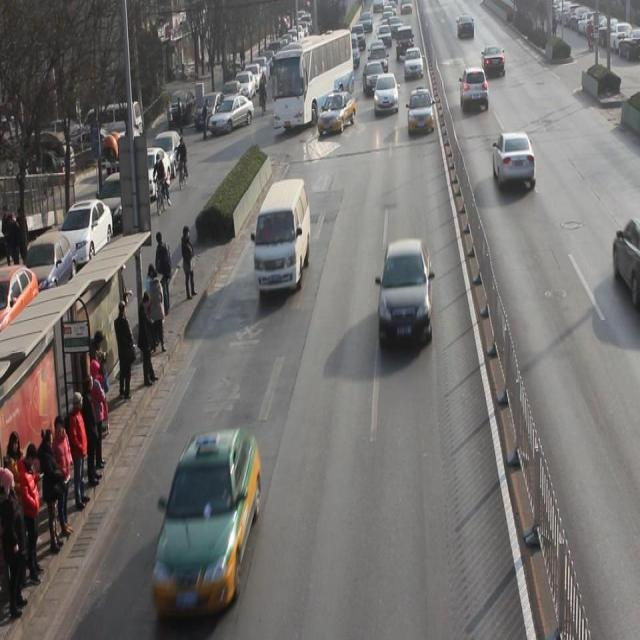car: (152, 427, 260, 614), (378, 240, 433, 344), (492, 131, 536, 189), (316, 92, 356, 136), (460, 66, 489, 112), (408, 89, 436, 136), (374, 74, 399, 118), (483, 44, 506, 80), (363, 61, 386, 97), (404, 46, 424, 81)
truck: (255, 179, 311, 295)
van: (271, 31, 354, 131)
